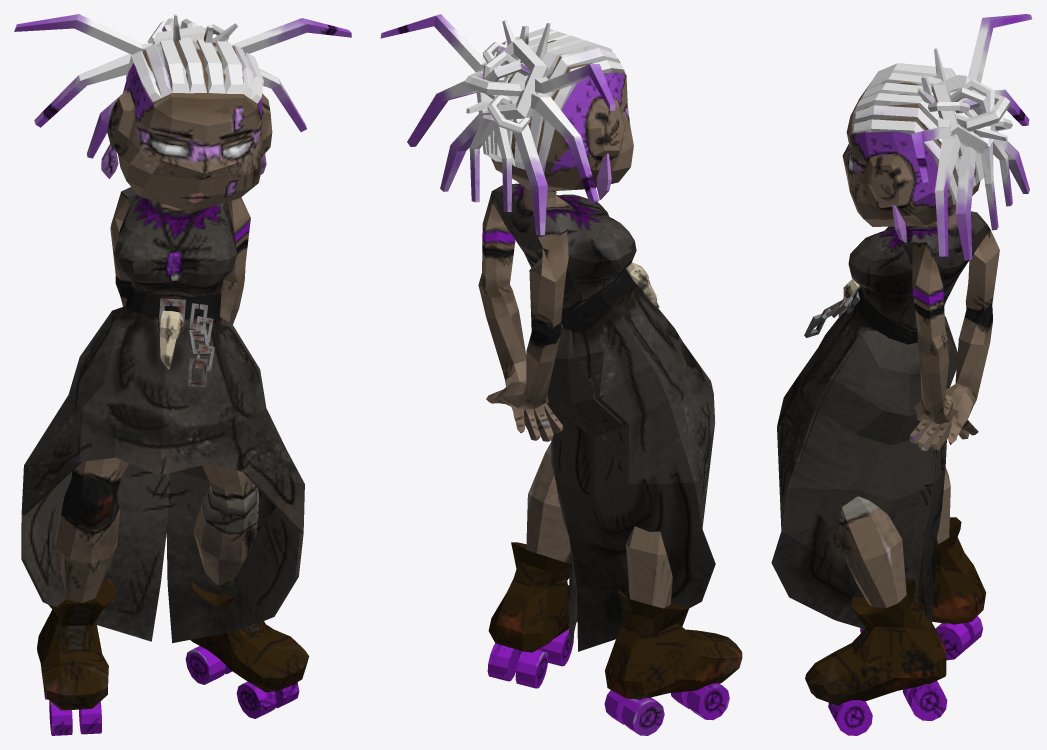
Rendered from bruja_000050.obj.
3 views of the same model, side by side, from view 1: azimuth 30°, elevation 25°; view 2: azimuth 150°, elevation 25°; view 3: azimuth 270°, elevation 25° (orthographic). The views are drawn at different scales.
Parts seen in each view (by area): view 1: Bruja_Plane.001; view 2: Bruja_Plane.001; view 3: Bruja_Plane.001.
Part boxes in pixels (box(x1,y1,x2,y2)): Bruja_Plane.001: box(14, 14, 351, 735); Bruja_Plane.001: box(380, 14, 742, 735); Bruja_Plane.001: box(771, 14, 1032, 735).
Bounding box in the file's own units: 8.22 × 16.1 × 5.79.
